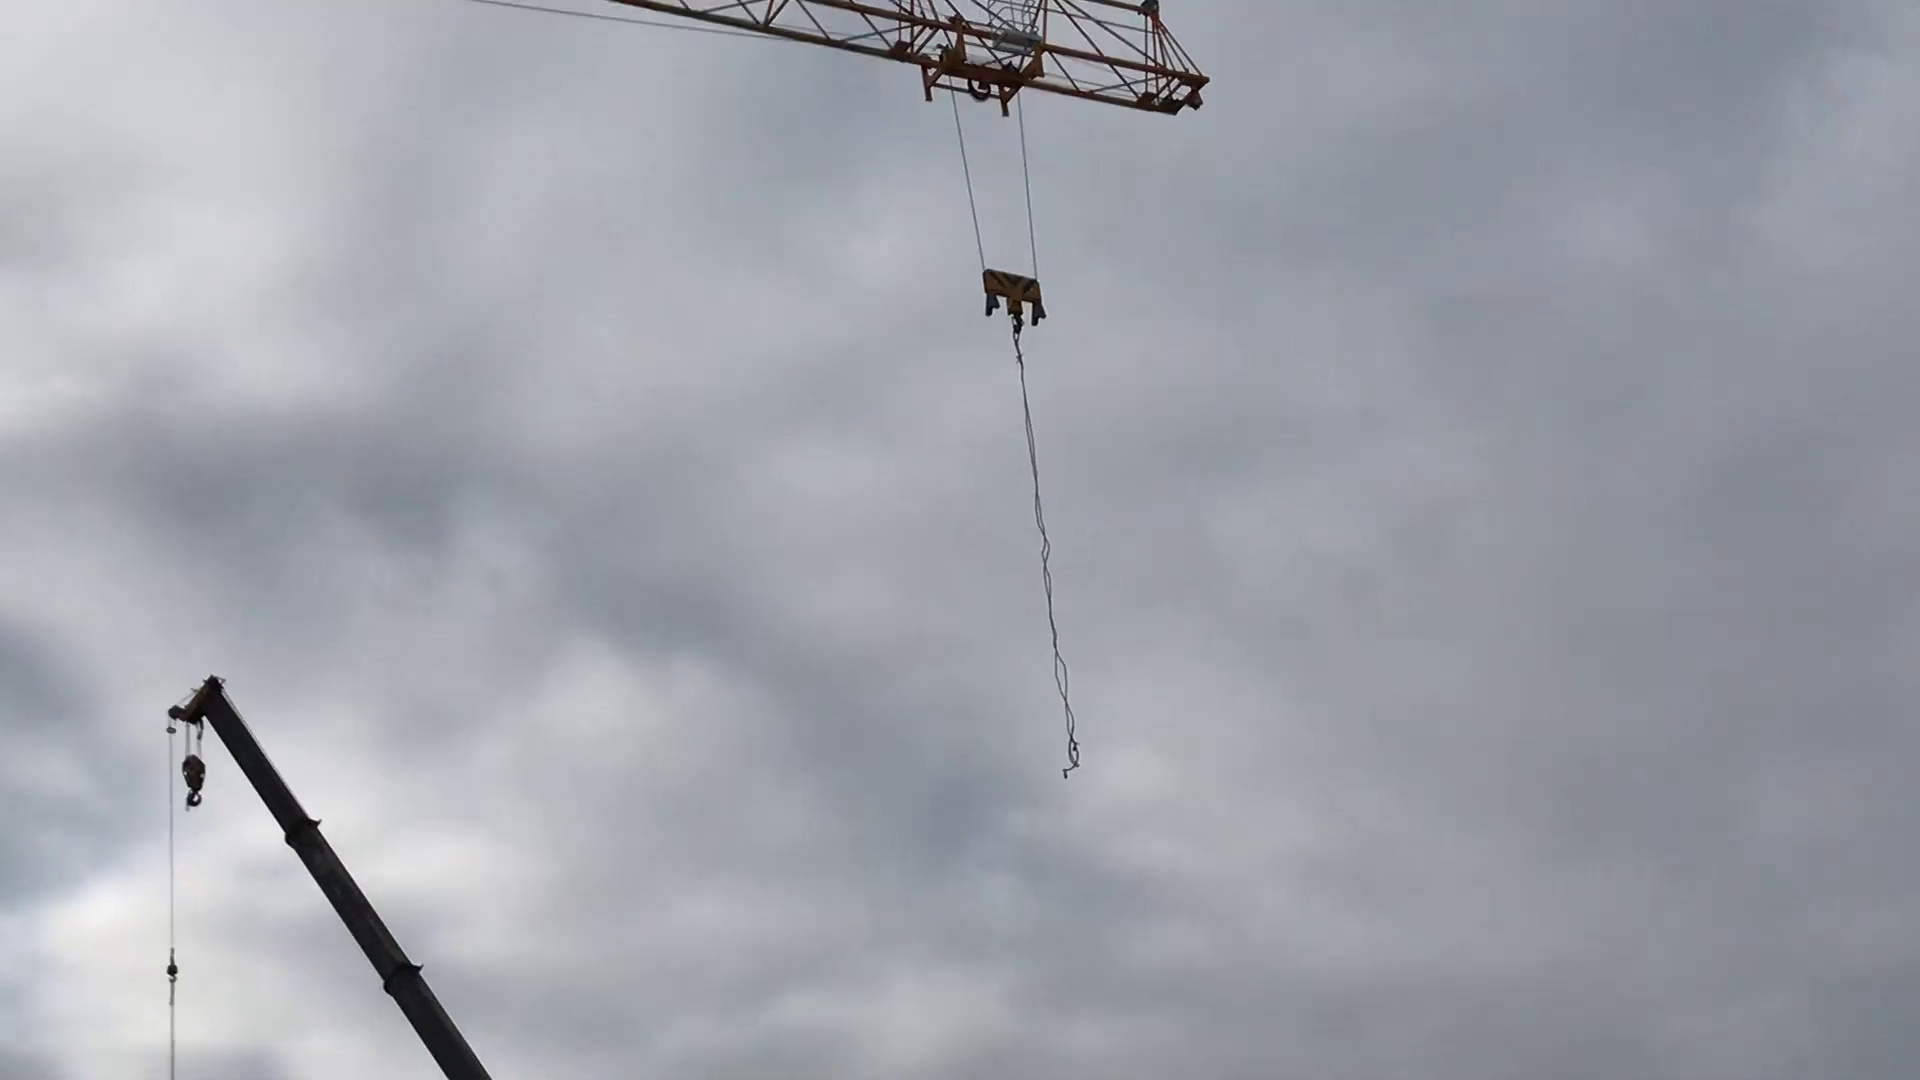hook: (973, 262, 1054, 334)
